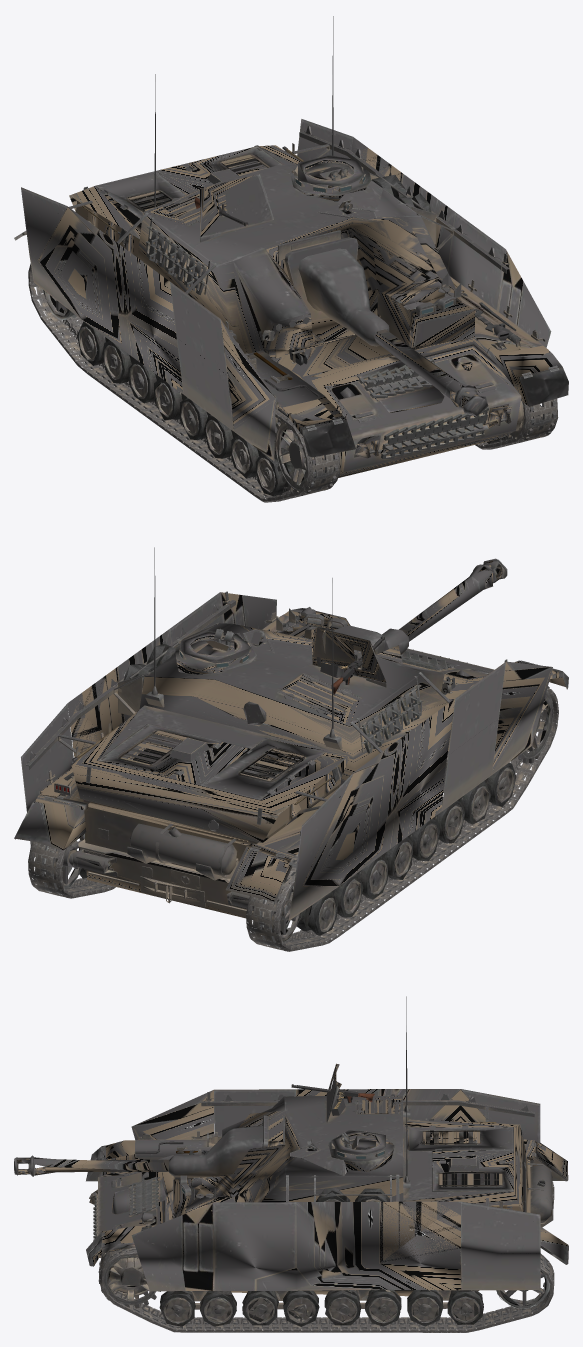
File: stug4.glb
3 views of the same model, one above another, from view 1: azimuth 30°, elevation 25°; view 2: azimuth 150°, elevation 25°; view 3: azimuth 270°, elevation 25° (orthographic). The views are drawn at different scales.
Visible parts, largest first — view 1: Object579_body_0, Object578_body_0, Object517_chassis_0, Object575_dop_0, Object580_body_0, track, Object582_body_0, Object581_body_0, Object584_body_0, Object593_body_0, Object583_body_0, Object585_body_0 (+1 smaller); view 2: Object578_body_0, Object579_body_0, Object575_dop_0, Object583_body_0, Object517_chassis_0 (×2), track, Object584_body_0, Object580_body_0, Object582_body_0, Object593_body_0, Object586_body_0, Object581_body_0 (+1 smaller); view 3: Object578_body_0, Object579_body_0, Object517_chassis_0 (×2), Object575_dop_0, track, Object583_body_0, Object584_body_0, Object580_body_0, Object582_body_0, Object581_body_0, Object593_body_0, Object594_body_0.
Part boxes in pixels (x1,y1,x2,y2): Object579_body_0: (137,164,521,477); Object578_body_0: (21,119,551,460); Object517_chassis_0: (42,174,542,496); Object575_dop_0: (57,16,561,431); Object580_body_0: (14,231,568,457); track: (28,263,558,502); Object582_body_0: (162,155,444,412); Object581_body_0: (285,237,389,346); Object584_body_0: (96,146,282,218); Object593_body_0: (374,329,488,416); Object583_body_0: (69,145,301,238); Object585_body_0: (288,169,497,453); Object578_body_0: (21,592,552,920); Object579_body_0: (83,615,494,918); Object575_dop_0: (26,547,558,913); Object583_body_0: (71,705,349,842); Object517_chassis_0 (×2): (42,644,553,942); track: (28,688,558,951); Object584_body_0: (98,724,324,799); Object580_body_0: (14,608,568,902); Object582_body_0: (175,624,459,716); Object593_body_0: (399,558,507,641); Object586_body_0: (88,630,381,845); Object581_body_0: (304,625,408,654); Object578_body_0: (131,1089,540,1291); Object579_body_0: (98,1096,526,1296); Object517_chassis_0 (×2): (93,1177,550,1326); Object575_dop_0: (100,996,553,1247); track: (99,1165,554,1332); Object583_body_0: (403,1119,526,1212); Object584_body_0: (408,1127,513,1191); Object580_body_0: (86,1139,568,1266); Object582_body_0: (111,1063,398,1214); Object581_body_0: (169,1115,268,1177); Object593_body_0: (14,1155,169,1176); Object594_body_0: (303,1147,348,1175).
Bounding box in the file's own units: 323 × 360 × 672.
4 materials, 4 textured.
